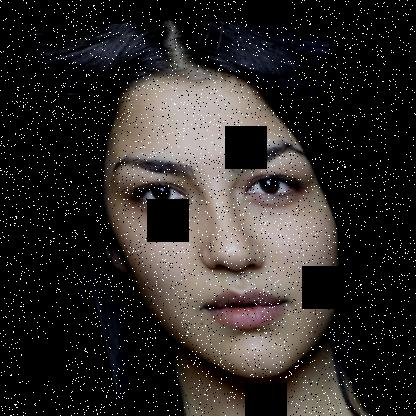Female: (58, 41, 367, 400)
